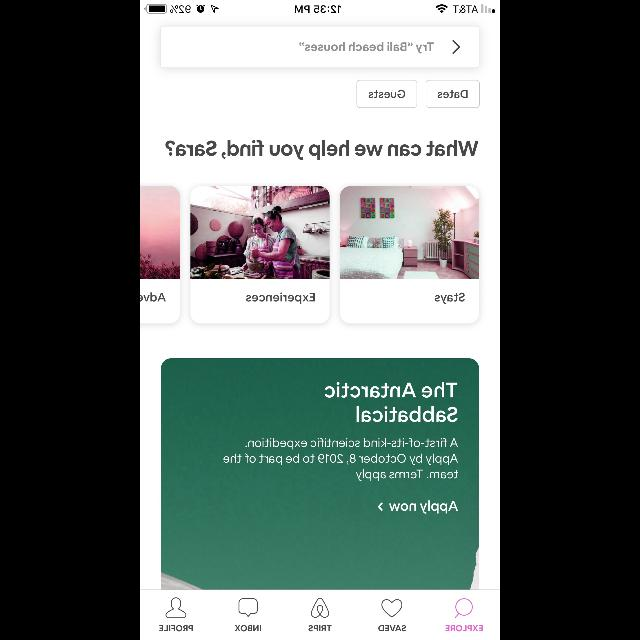icon: (166, 598, 187, 618), (238, 598, 258, 618), (454, 598, 472, 618), (382, 599, 402, 617), (452, 40, 460, 54), (378, 502, 382, 511)
image: (339, 186, 478, 280), (190, 185, 330, 278), (140, 186, 180, 280), (311, 598, 329, 618)
input: (160, 26, 480, 68)
text: (224, 437, 458, 481), (166, 140, 478, 160), (324, 382, 458, 422), (299, 42, 433, 54), (388, 500, 458, 514), (246, 292, 314, 304), (434, 292, 464, 304), (446, 624, 482, 632), (159, 624, 193, 632), (140, 292, 166, 302), (308, 624, 332, 632), (378, 625, 406, 631), (235, 625, 261, 631)
textbutton: (357, 80, 417, 108), (426, 80, 480, 108)
uppertaskbar: (140, 0, 500, 14)
